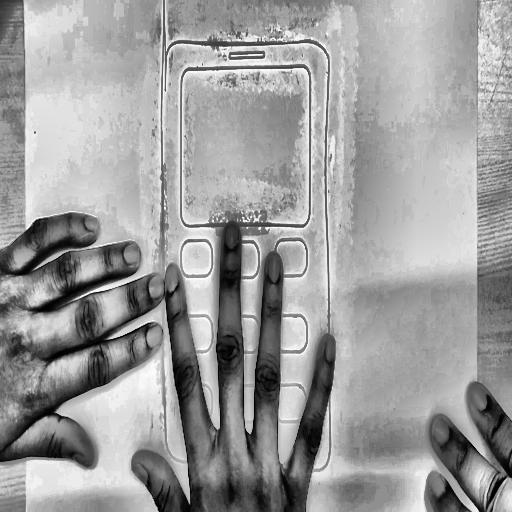mobile: (156, 0, 338, 482)
